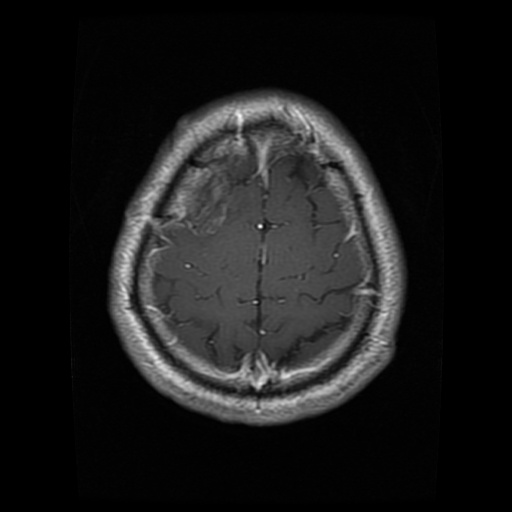glioma: (187, 155, 256, 235)
